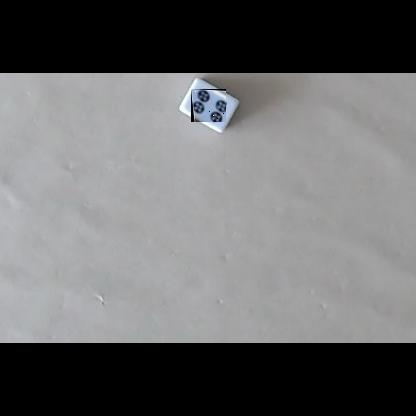4p: (191, 89, 226, 122)
